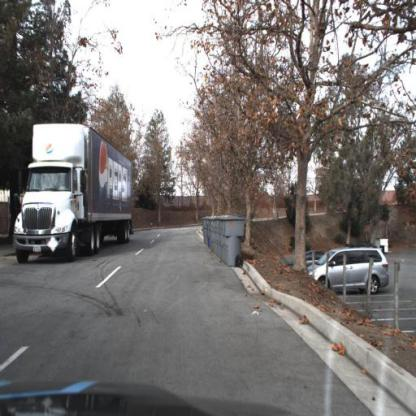car: (305, 245, 390, 301), (284, 249, 328, 276)
truck: (14, 121, 134, 267)
